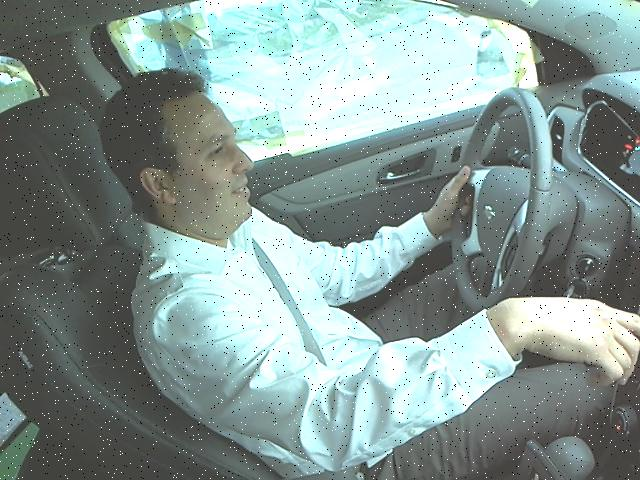c3 - Operating the Radio: (92, 59, 635, 450)
